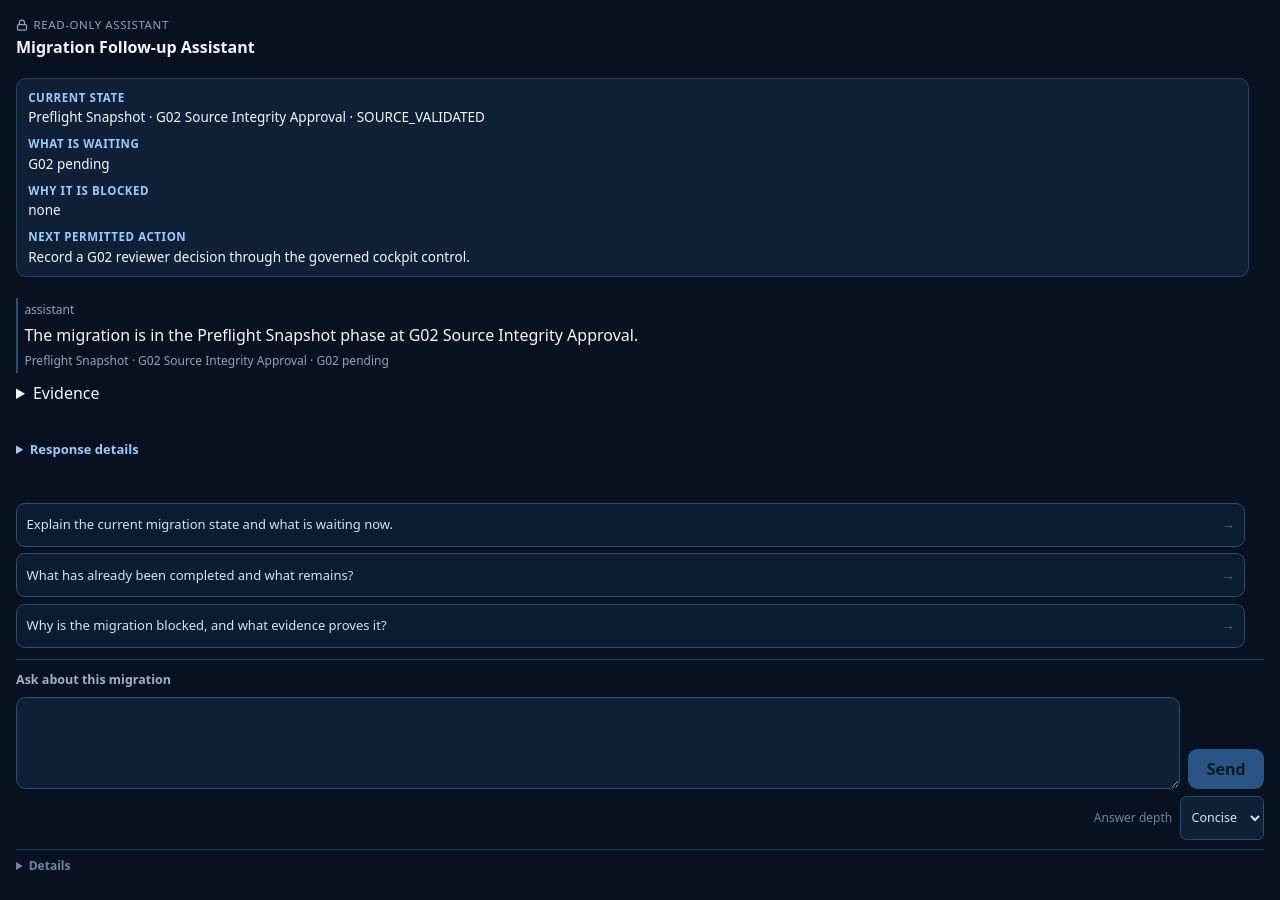
Test: AssistantPanel authoritative rendering › shows response hierarchy before technical response details
Expected: the heading "Current state" is shown, 28,90 -> 125,105
Expected: the heading "What is waiting" is shown, 28,136 -> 139,151
Click the heading "Response details": {"x": 84, "y": 449} 30,440 -> 139,458
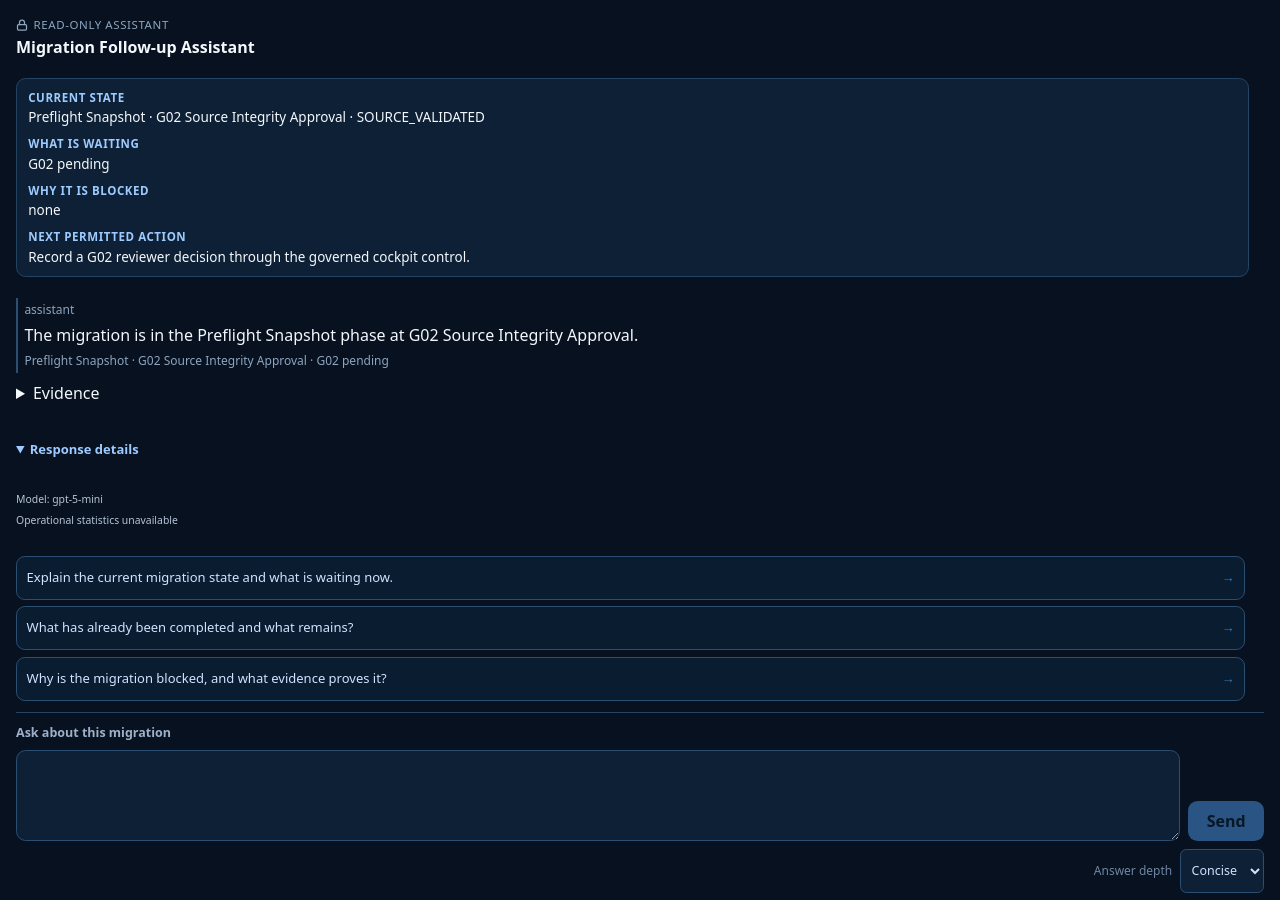
Expected: the text "Operational statistics unavailable" is shown, 16,513 -> 178,527
